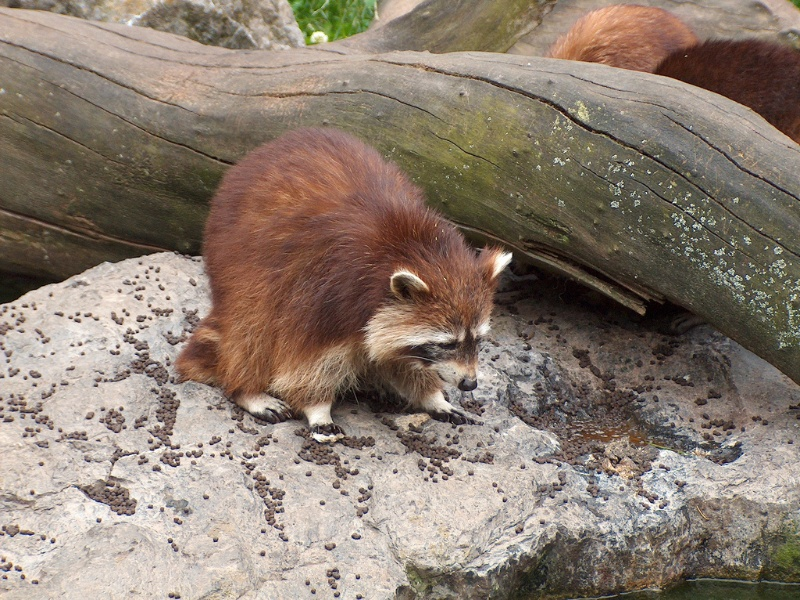raccoon: (170, 118, 506, 454)
